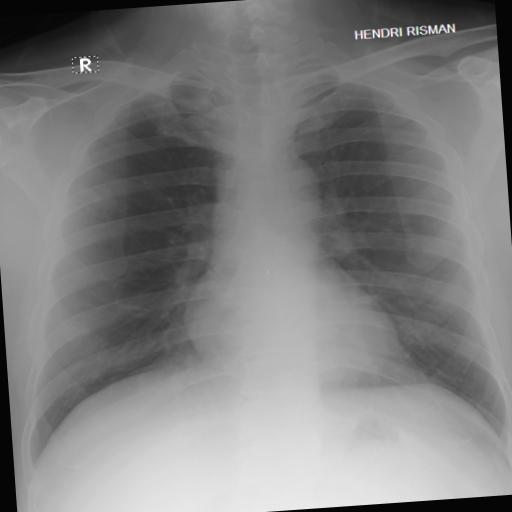normal: (0, 30, 512, 492)
